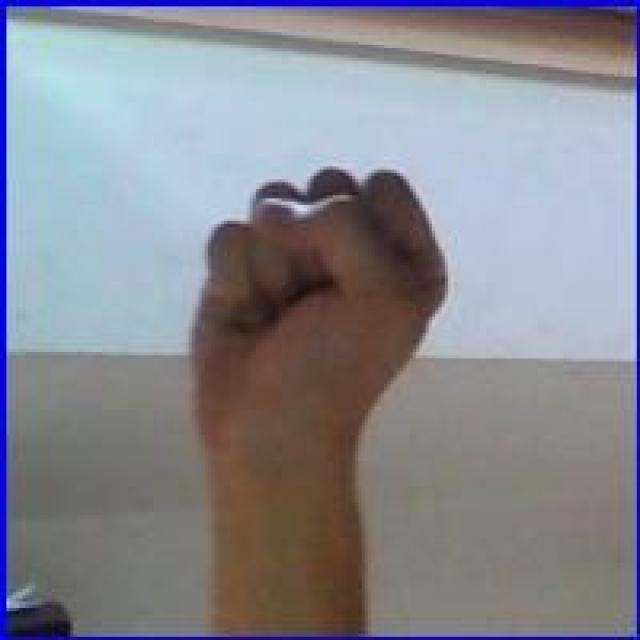S: (182, 158, 461, 446)
